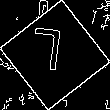L_S: (37, 28, 73, 82)
